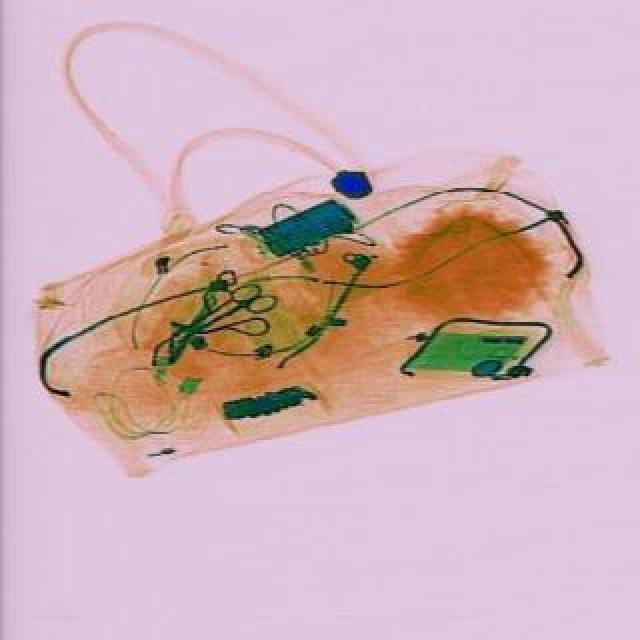pliers: (168, 272, 276, 354)
